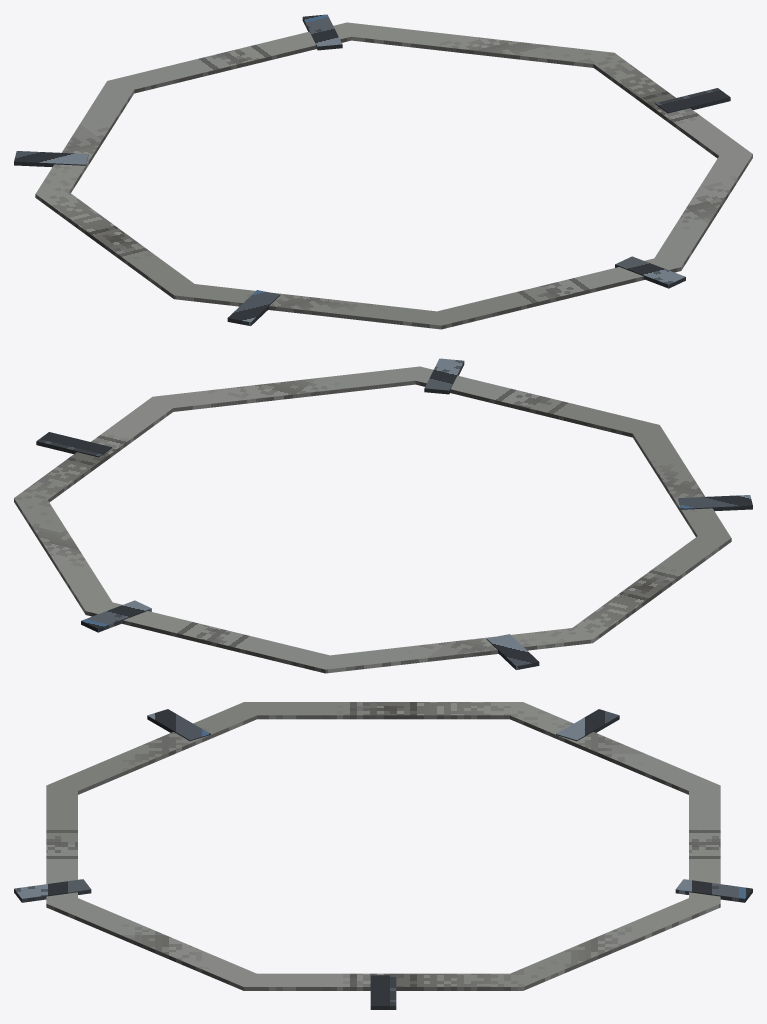
The model's file is fx_beacon_range.glb.
3 views of the same model, one above another, from view 1: azimuth 30°, elevation 25°; view 2: azimuth 150°, elevation 25°; view 3: azimuth 270°, elevation 25° (orthographic).
Parts seen in each view (by area): view 1: range_ring, range_tick_4, range_tick_2, range_tick_0, range_tick_3, range_tick_1; view 2: range_ring, range_tick_1, range_tick_3, range_tick_0, range_tick_2, range_tick_4; view 3: range_ring, range_tick_1, range_tick_4, range_tick_2, range_tick_3, range_tick_0.
Part boxes in pixels (bbox=[...]): range_ring: bbox=[35, 22, 752, 329]; range_tick_4: bbox=[615, 256, 685, 288]; range_tick_2: bbox=[14, 151, 88, 167]; range_tick_0: bbox=[655, 88, 730, 113]; range_tick_3: bbox=[227, 290, 280, 325]; range_tick_1: bbox=[302, 14, 342, 50]; range_ring: bbox=[14, 366, 731, 673]; range_tick_1: bbox=[81, 600, 151, 632]; range_tick_3: bbox=[678, 495, 752, 511]; range_tick_0: bbox=[36, 432, 111, 457]; range_tick_2: bbox=[486, 634, 539, 669]; range_tick_4: bbox=[424, 358, 464, 394]; range_ring: bbox=[46, 702, 720, 990]; range_tick_1: bbox=[675, 879, 752, 902]; range_tick_4: bbox=[14, 879, 91, 902]; range_tick_2: bbox=[556, 709, 619, 741]; range_tick_3: bbox=[147, 709, 210, 741]; range_tick_0: bbox=[370, 975, 396, 1009].
Bounding box in the file's own units: 3.36 × 0.025 × 3.44.
2 materials, 2 textured.
